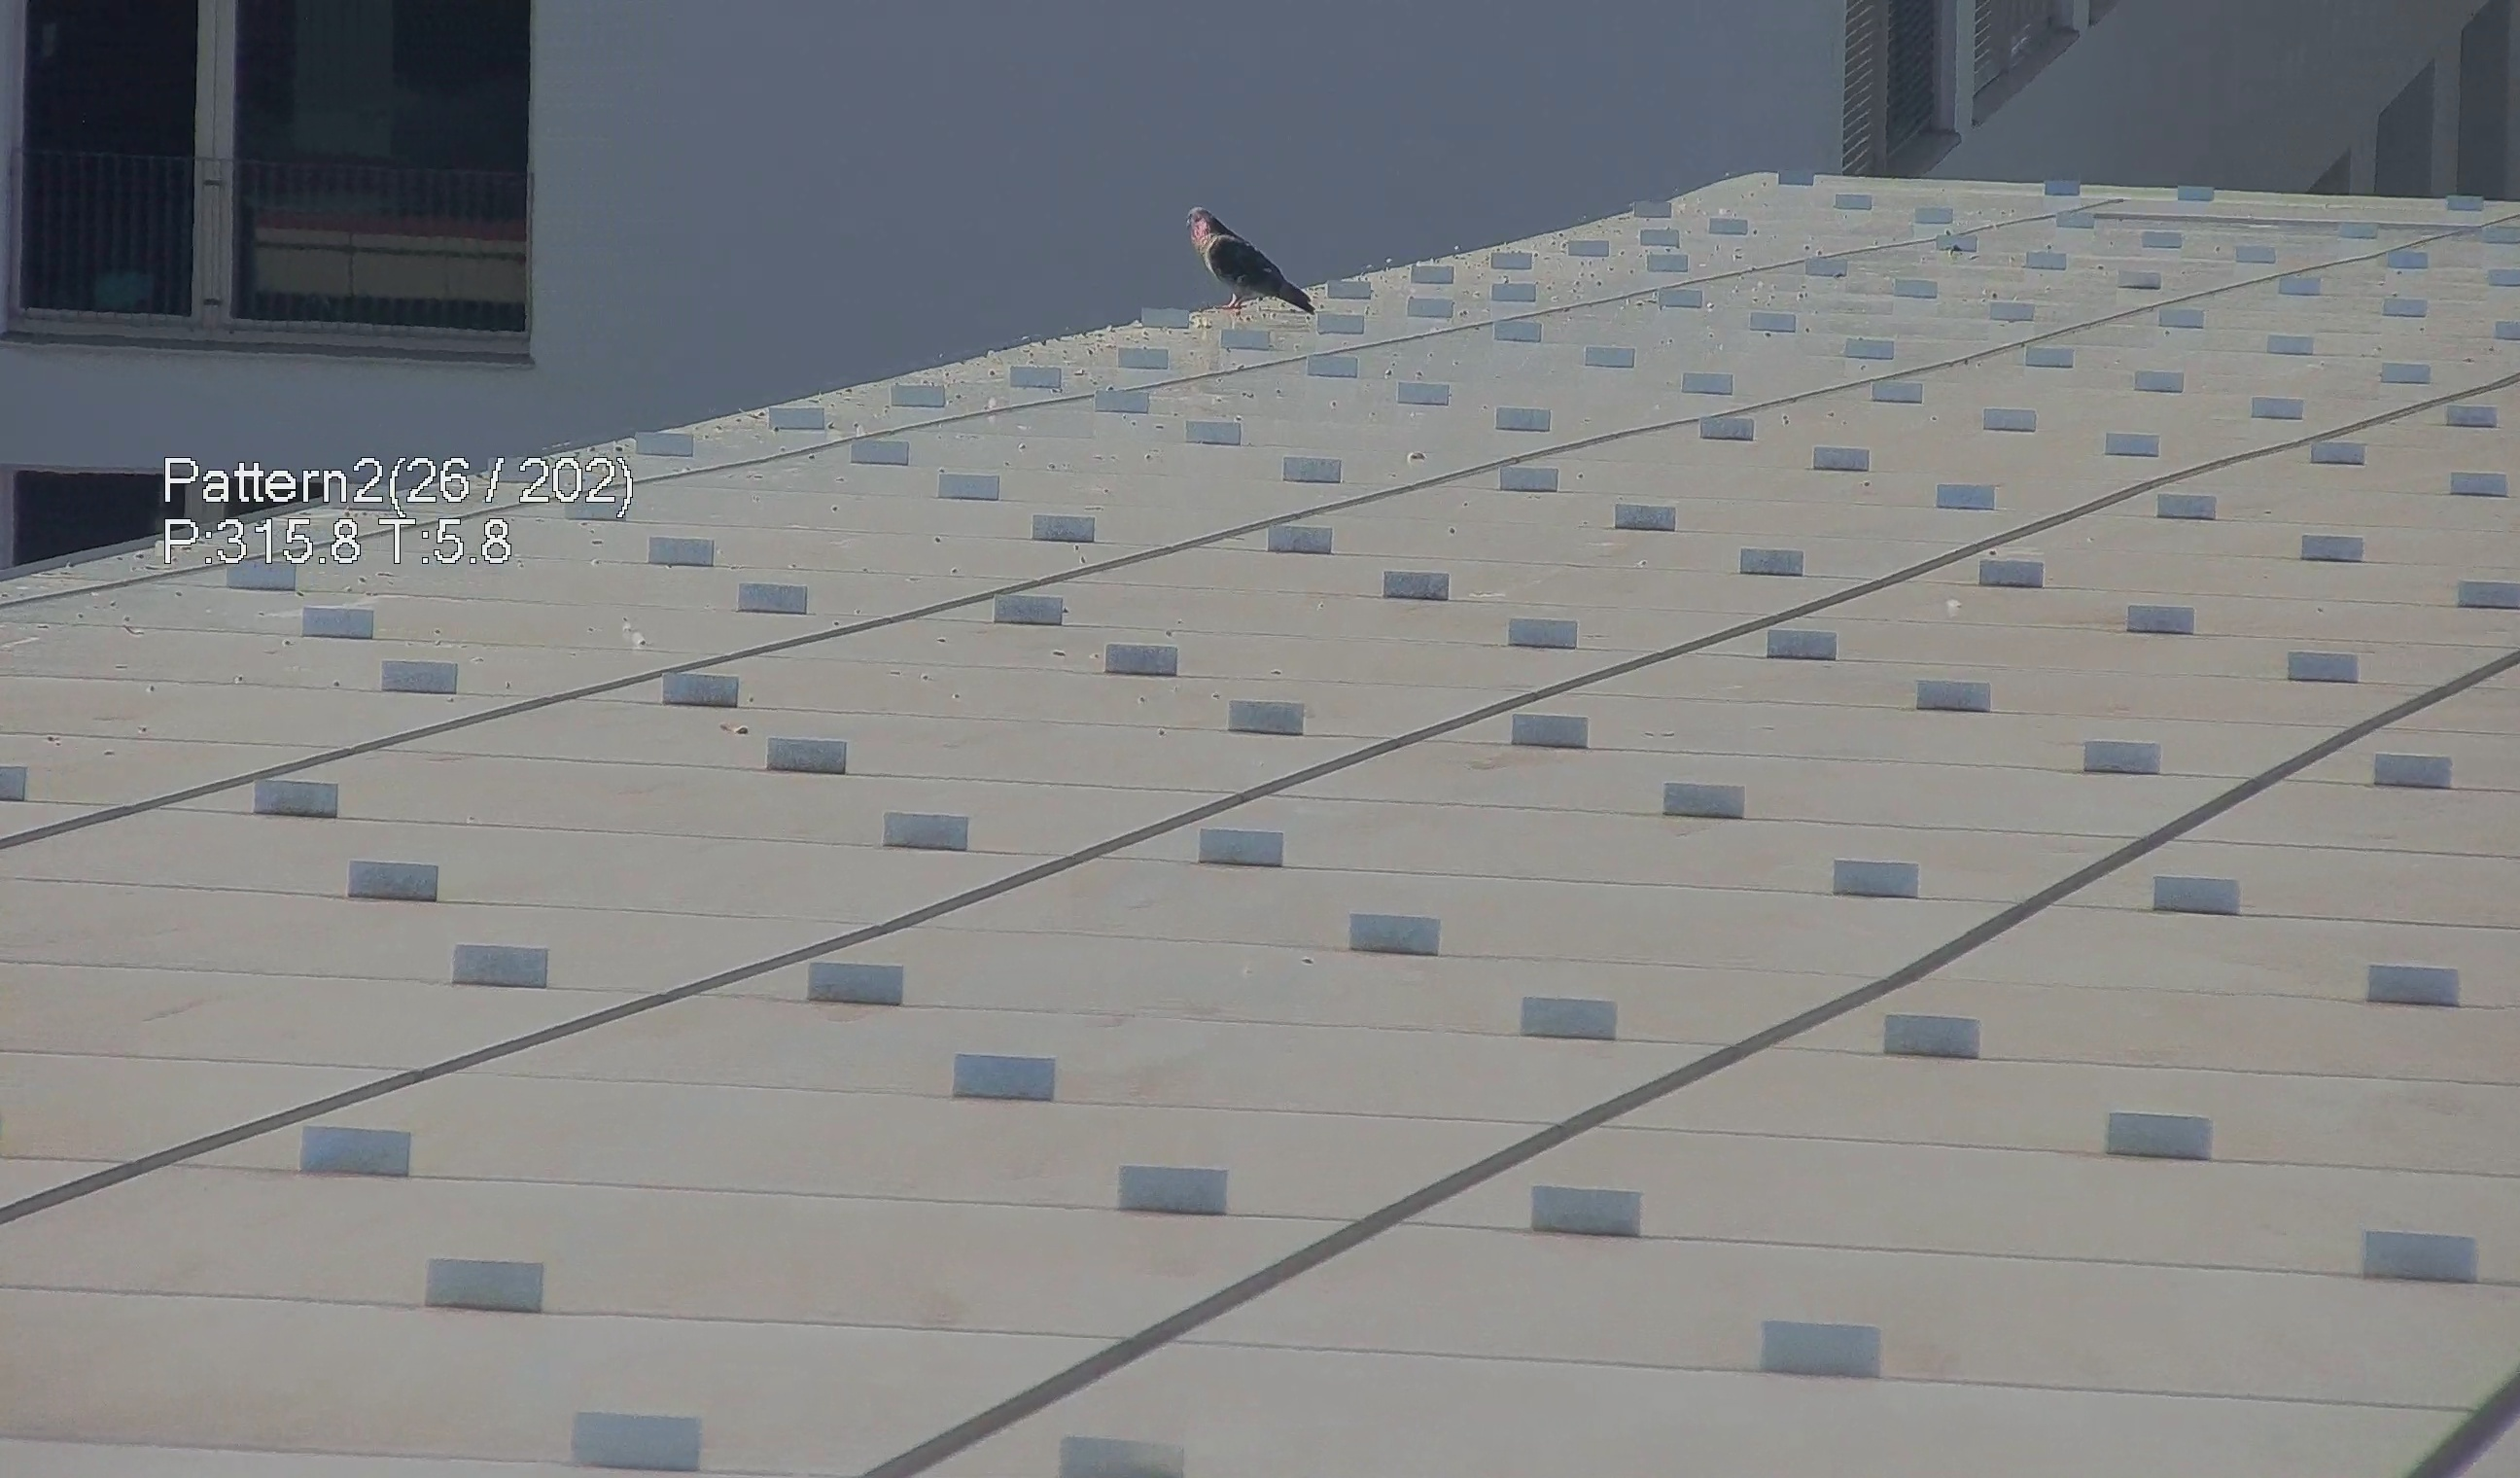Pigeon: (1178, 195, 1317, 318)
